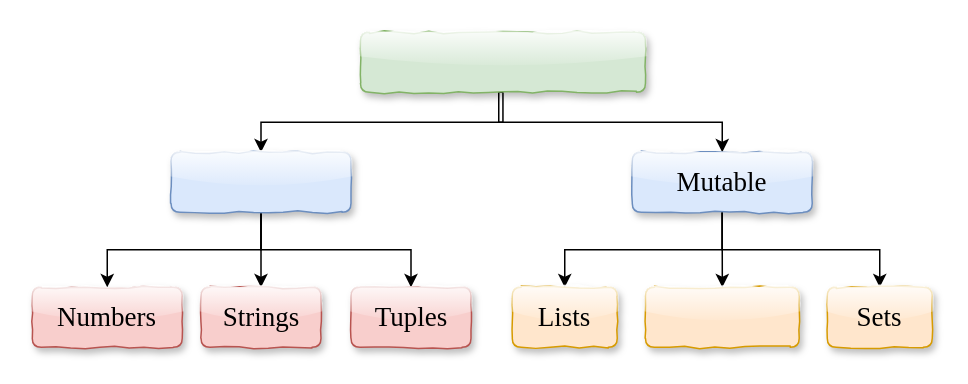
Some shapes in this 968 by 384 pixel diagram are drawn without their labels. Here are the shapes that lost their labels. From the top down, the centre of each, then its label:
pixel 503 64: Data Structures in Python
pixel 262 184: Immutable
pixel 723 319: Dictionaries
